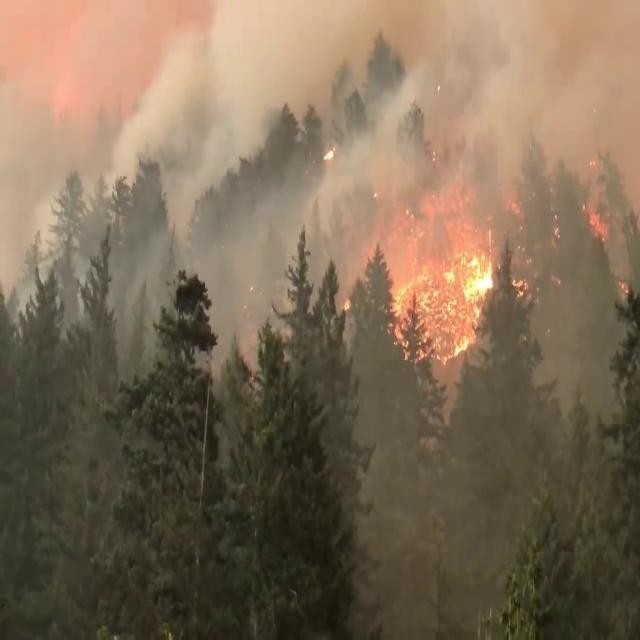Fire: (384, 194, 494, 366), (588, 207, 609, 244), (510, 276, 530, 298), (322, 144, 336, 161)
Smoke: (6, 1, 640, 638)
